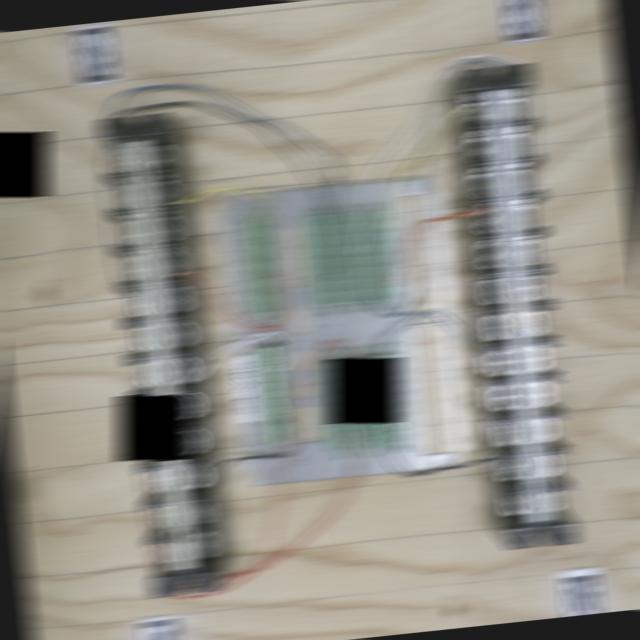Flathead_Block: (99, 112, 220, 597)
Phillips_Block: (461, 63, 579, 549)
Terminal_1: (254, 345, 292, 443), (243, 215, 279, 315)
Terminal_2: (319, 359, 354, 453), (347, 357, 382, 451), (333, 210, 368, 304), (363, 209, 398, 302), (304, 212, 338, 307)
